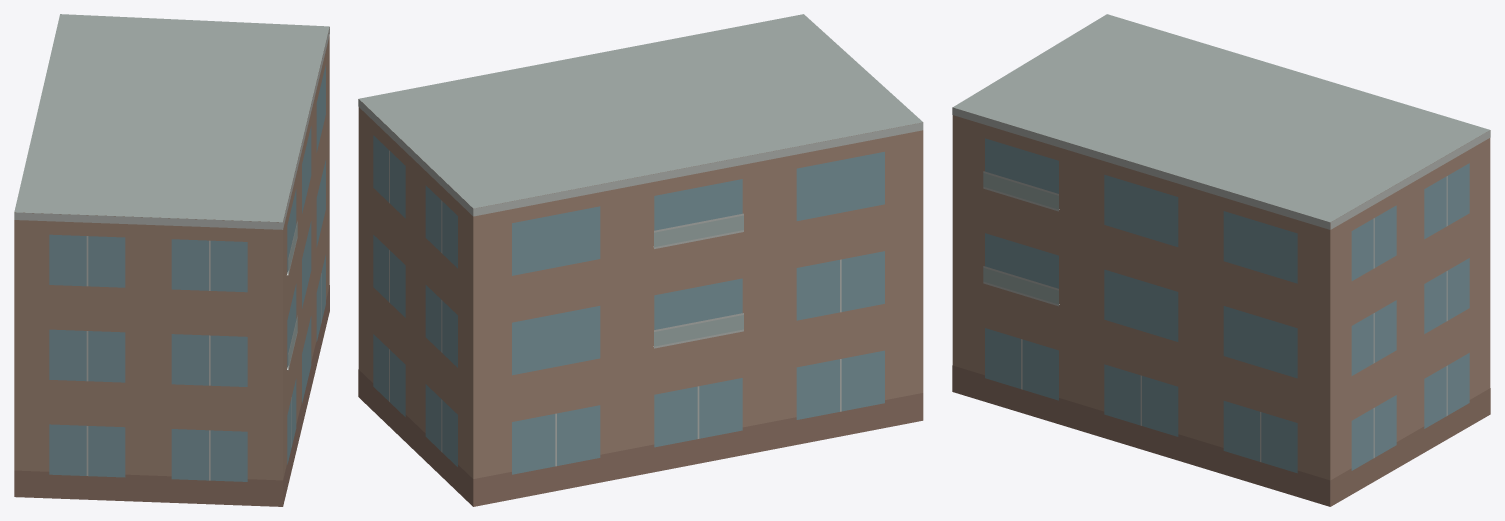
The model's file is survey-upis-32906988.glb.
3 renders of one model, left to right at view 1: azimuth 30°, elevation 25°; view 2: azimuth 150°, elevation 25°; view 3: azimuth 270°, elevation 25°, orthographic. The views are drawn at different scales.
Parts seen in each view (by area): view 1: survey-upis-32906988.tmp; view 2: survey-upis-32906988.tmp; view 3: survey-upis-32906988.tmp.
Boxes of the visible parts, bbox=[...] form: survey-upis-32906988.tmp: bbox=[14, 14, 329, 506]; survey-upis-32906988.tmp: bbox=[358, 14, 923, 506]; survey-upis-32906988.tmp: bbox=[952, 14, 1490, 506].
Bounding box in the file's own units: 14.38 × 9.15 × 15.69.
